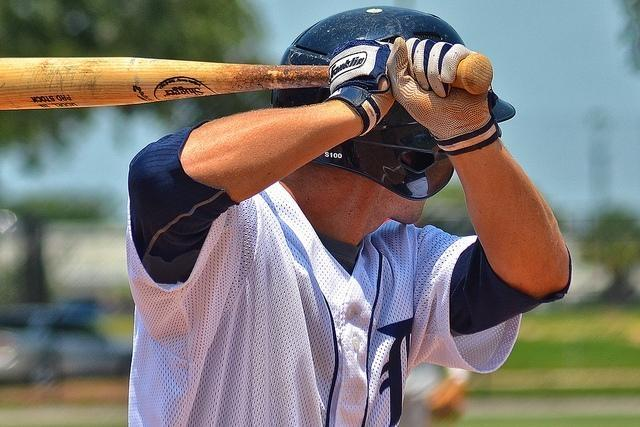car: (1, 300, 136, 384)
